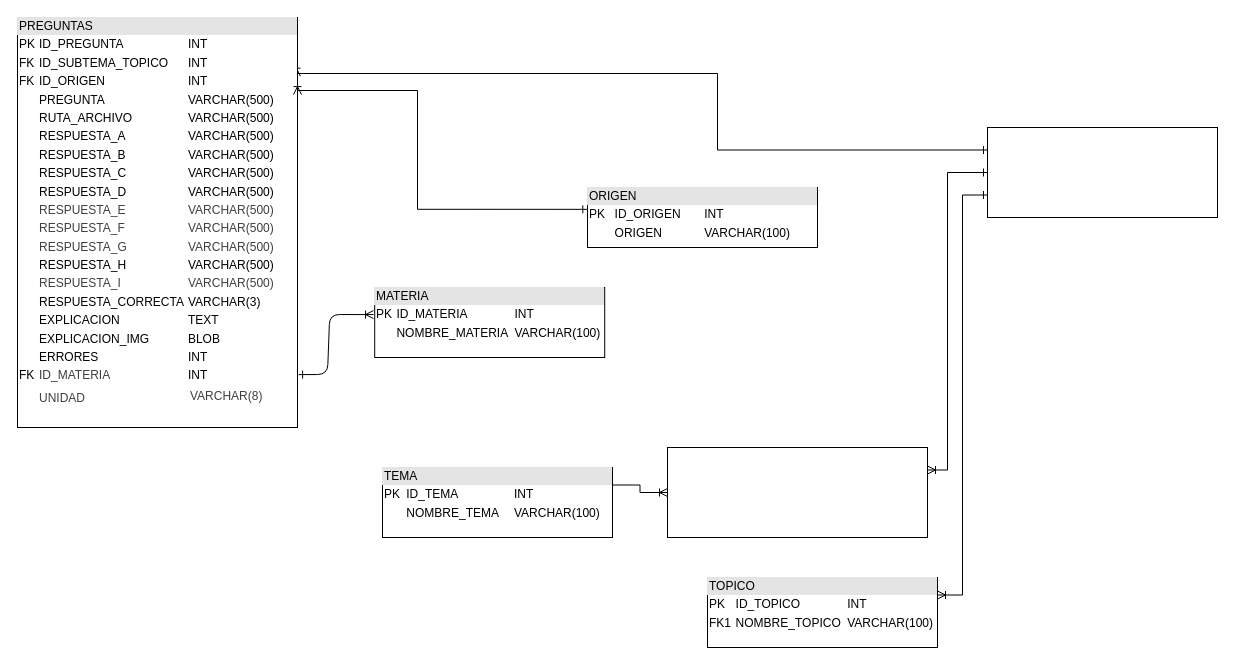
Image size: 1235x665. Some labels were removed from this diagram. Here are the shapes that lost their labels. From the top down, the box of each, then its label:
(986, 126, 1218, 218): SUBTEMA_TOPICO PK ID_SUBTEMA_TOPICO INT FK1 ID_SUBTEMA INT FK1 ID_TOPICO INT
(666, 446, 928, 538): SUBTEMA PK ID_SUBTEMA INT FK1 ID_TEMA INT NOMBRE_SUBTEMA VARCHAR(100)
